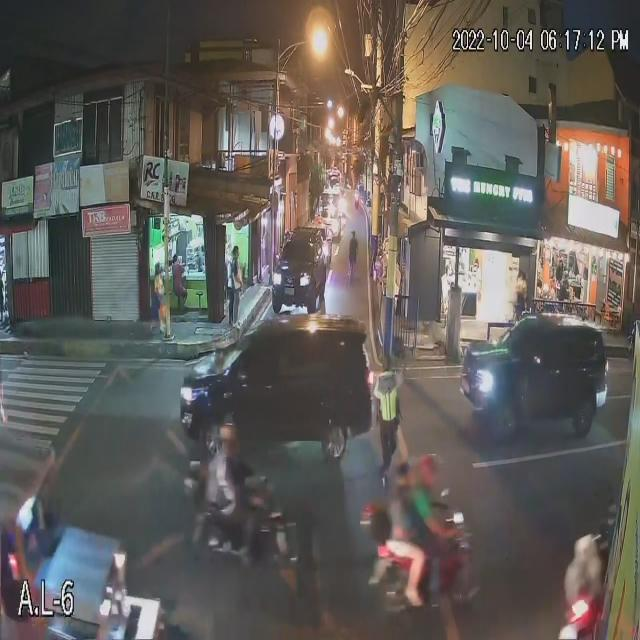helmet: (420, 457, 442, 480), (218, 425, 239, 440)
motorcycle: (365, 537, 485, 611), (189, 498, 295, 566), (562, 598, 607, 640)
rider: (390, 489, 421, 589), (415, 486, 443, 558), (214, 456, 239, 529)
